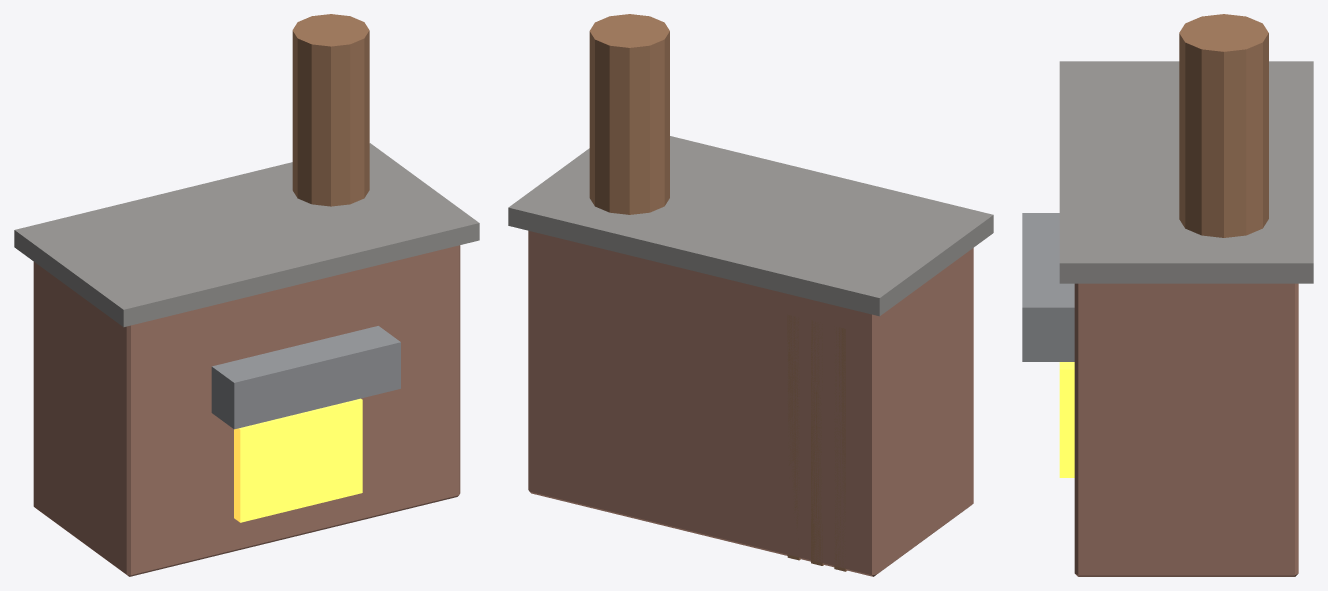
The model's file is furnace.glb.
3 views of the same model, side by side, from view 1: azimuth 30°, elevation 25°; view 2: azimuth 150°, elevation 25°; view 3: azimuth 270°, elevation 25° (orthographic). The views are drawn at different scales.
Visible parts, largest first — view 1: furnace; view 2: furnace; view 3: furnace.
Part boxes in pixels (<box>): furnace: <box>14,14,479,576</box>; furnace: <box>508,14,993,576</box>; furnace: <box>1022,14,1313,576</box>.
Size of what is drawn, in the model's own units: 6.4 by 7.5 by 3.9.
